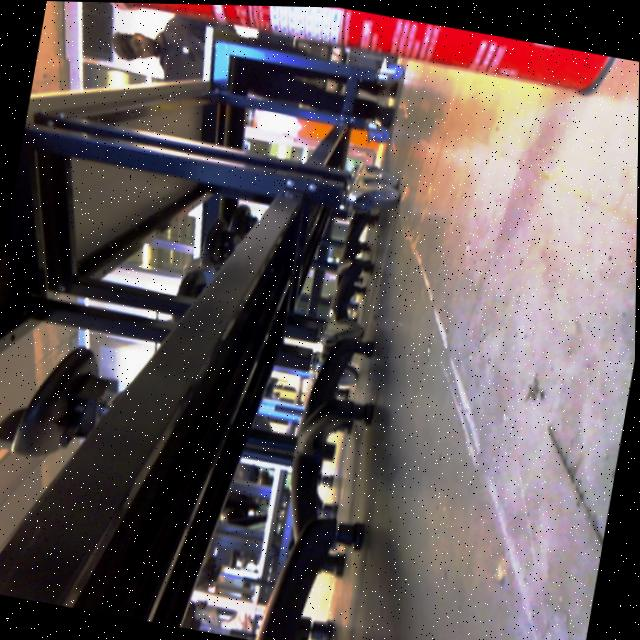redpringles: (72, 1, 622, 104)
